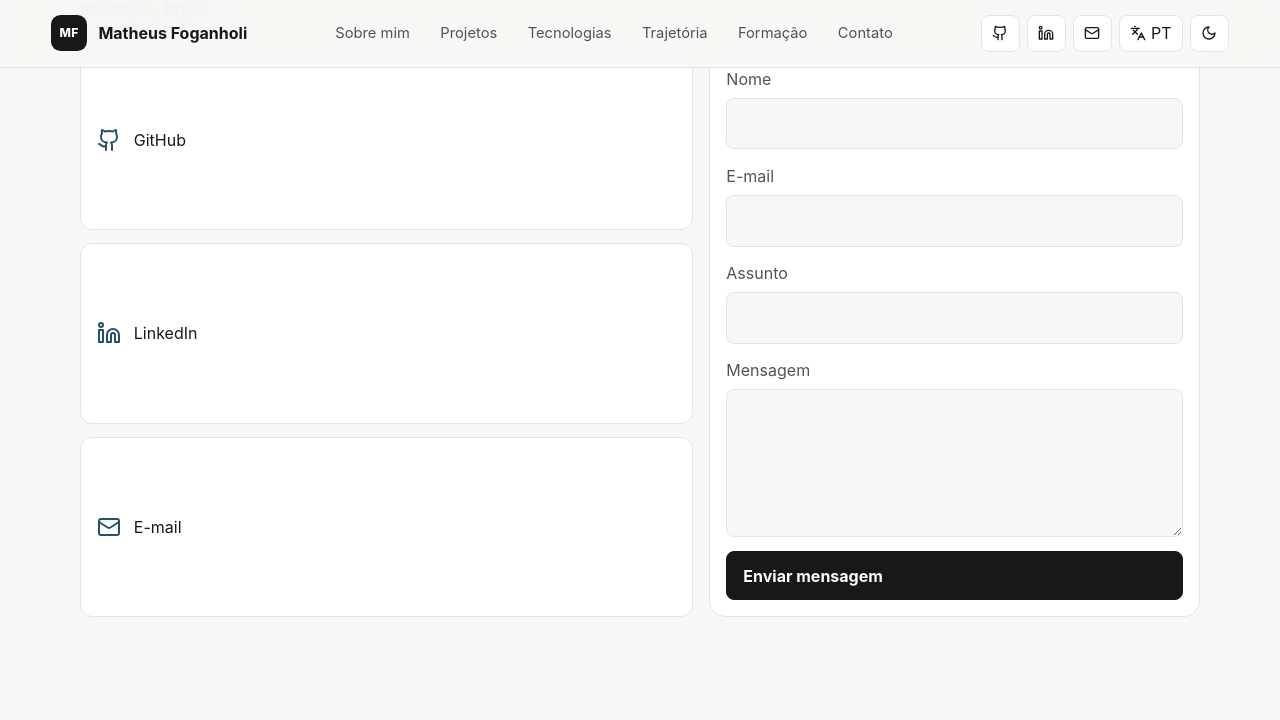
App › validates contact form fields
The image size is (1280, 720).
(page scrolled)
Click the button "Enviar mensagem" at point(813, 576), box [726,551,1183,600]
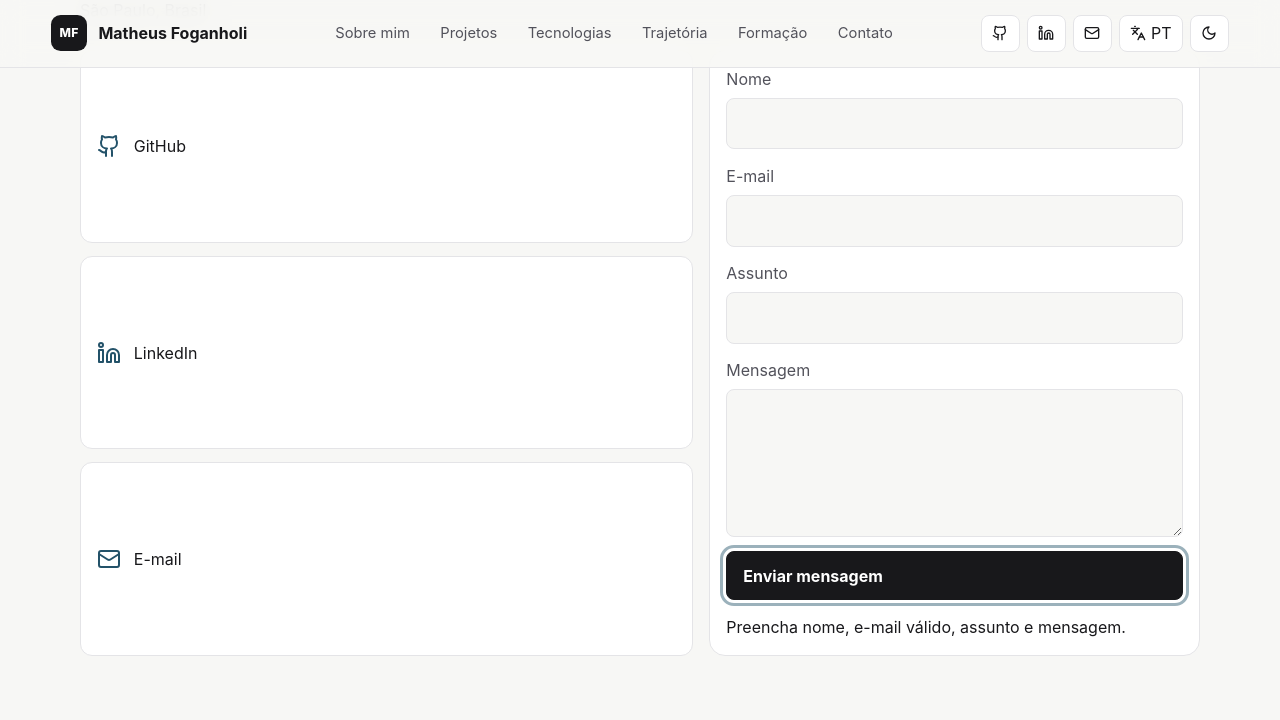
Result: the text "Preencha nome, e-mail válido, assunto e mensagem." is shown at [726,615,1183,639]
